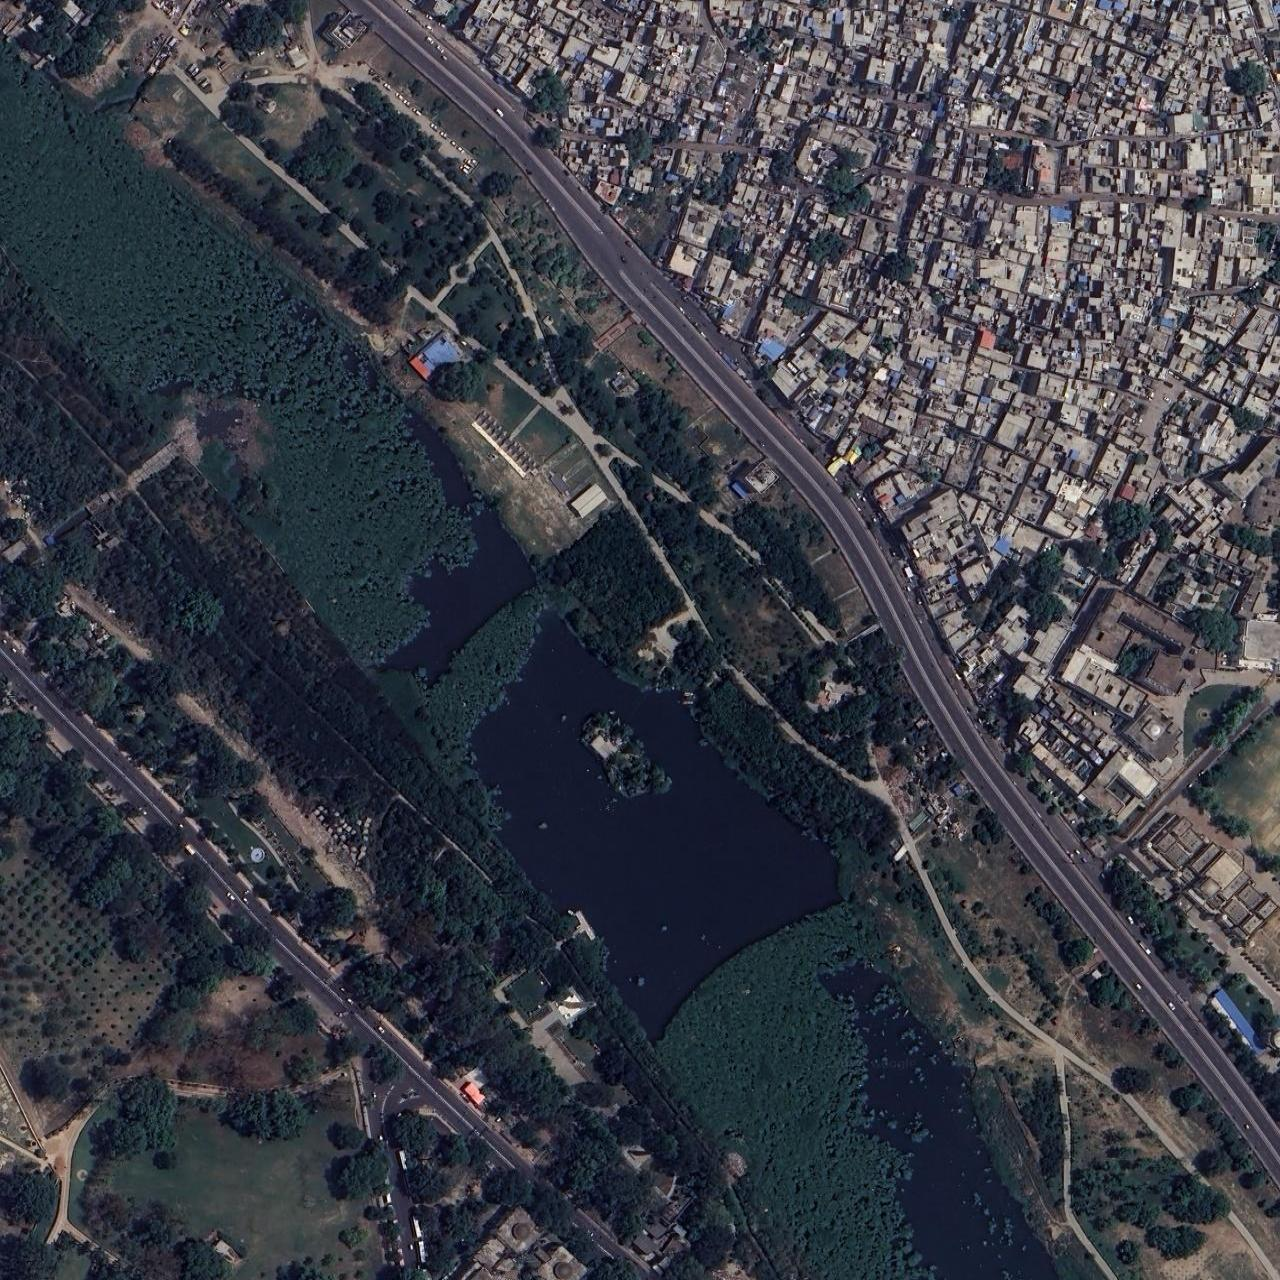greenery: (6, 2, 789, 1280), (448, 247, 1280, 1280), (0, 704, 512, 1280), (1073, 678, 1280, 1088)
house: (410, 5, 1278, 821)
water: (467, 625, 859, 1046), (818, 964, 1088, 1279), (400, 409, 559, 676), (431, 1, 621, 96)
